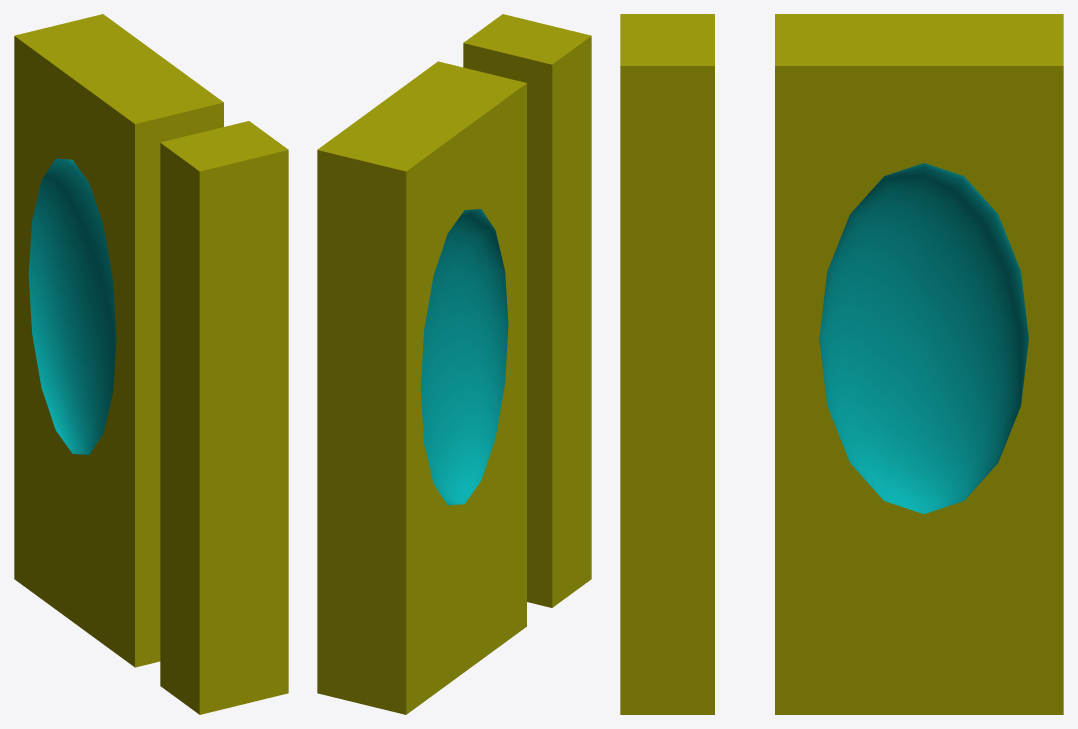
The model's file is DimpleHandle.fbx.
The picture shows the model from 3 angles, left to right: view 1: azimuth 30°, elevation 25°; view 2: azimuth 150°, elevation 25°; view 3: azimuth 270°, elevation 25°; orthographic projection. The views are drawn at different scales.
Parts seen in each view (by area): view 1: DimpleHandle; view 2: DimpleHandle; view 3: DimpleHandle.
Boxes of the visible parts, left/top/right/bottom form: DimpleHandle: left=14, top=14, right=288, bottom=714; DimpleHandle: left=317, top=14, right=591, bottom=714; DimpleHandle: left=620, top=14, right=1063, bottom=714.
Size of the model in its own units: 0.065 by 0.3793 by 0.2349.
